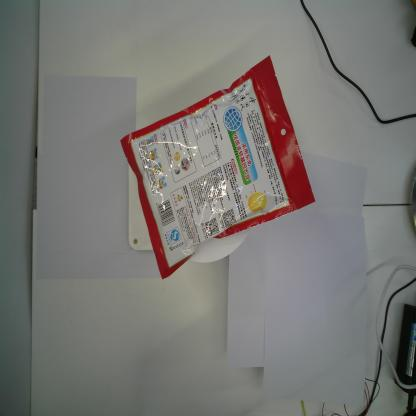Instant Drink: (119, 53, 319, 281)
